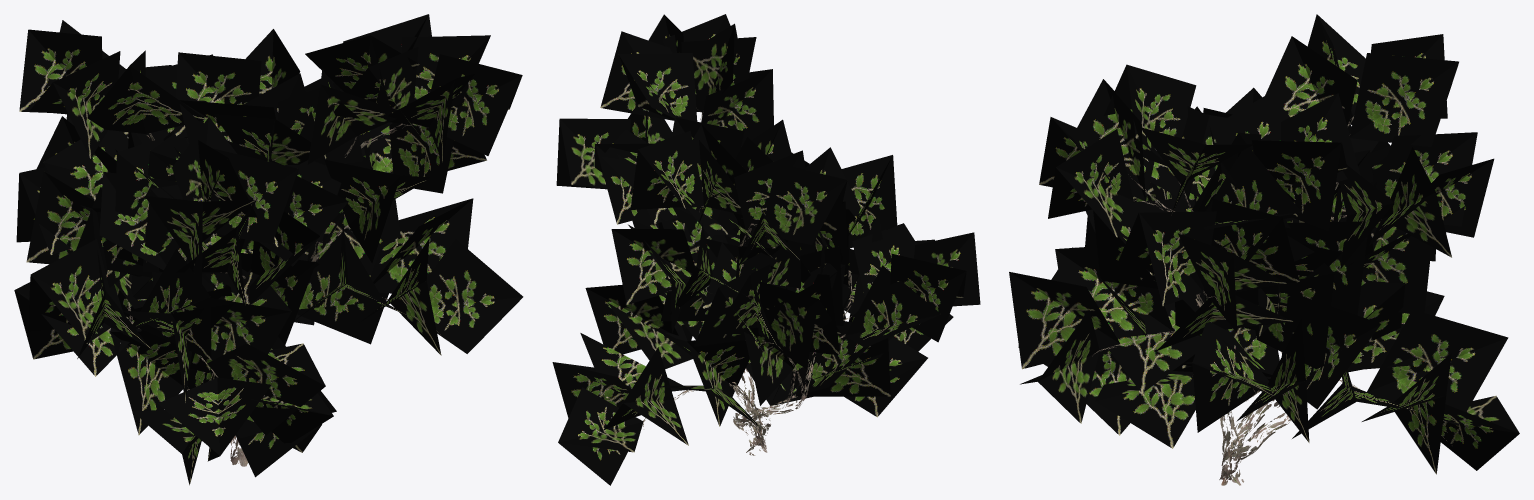
The model's file is tve_treeit.glb.
The picture shows the model from 3 angles, left to right: view 1: azimuth 30°, elevation 25°; view 2: azimuth 150°, elevation 25°; view 3: azimuth 270°, elevation 25°; orthographic projection. The views are drawn at different scales.
Parts seen in each view (by area): view 1: TVE_TreeIt; view 2: TVE_TreeIt; view 3: TVE_TreeIt.
Boxes of the visible parts, <box> form: TVE_TreeIt: <box>14,14,523,485</box>; TVE_TreeIt: <box>552,14,980,485</box>; TVE_TreeIt: <box>1009,14,1519,485</box>.
Bounding box in the file's own units: 4.41 × 4.08 × 4.15.
2 materials, 2 textured.
